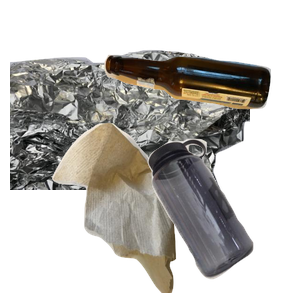glass: (101, 52, 300, 154)
metal: (10, 47, 250, 227)
plastic: (145, 136, 300, 300)
trash: (50, 120, 219, 300)
